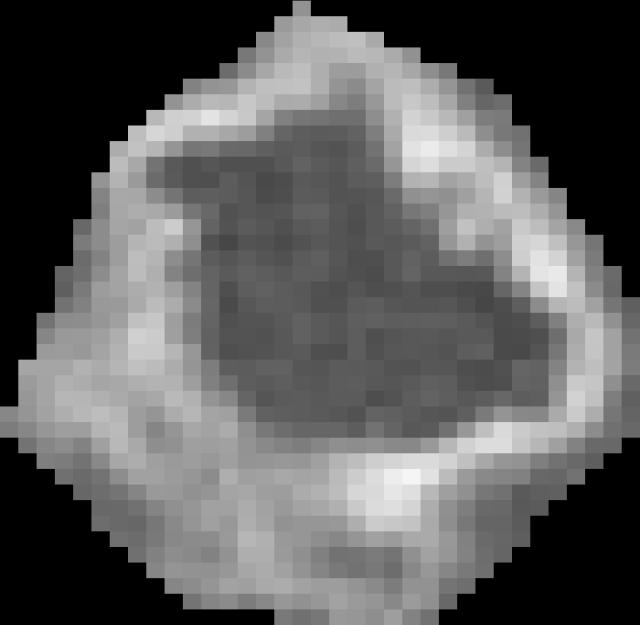tumor_good_chance: (0, 1, 640, 625)
